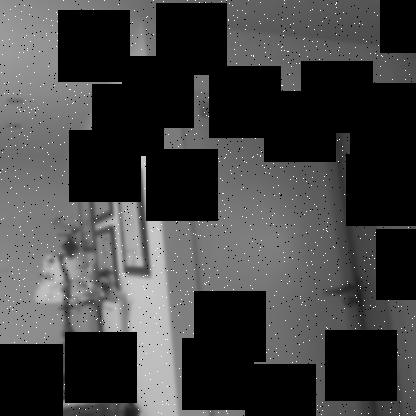Porte: (177, 88, 416, 415)
